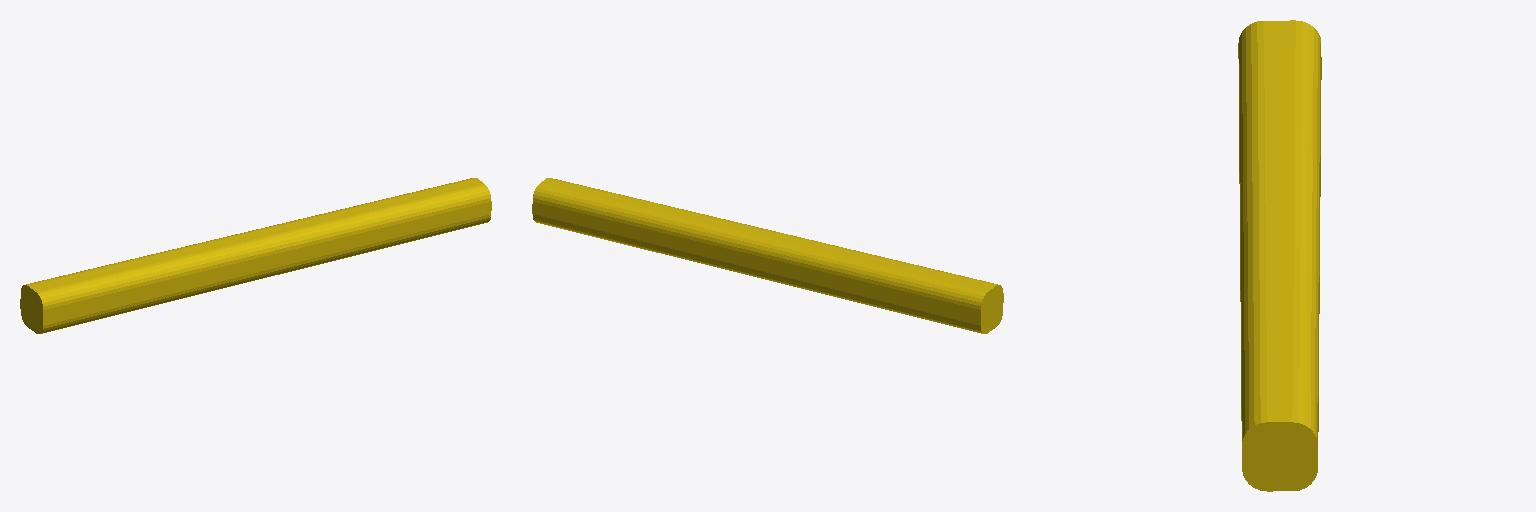
The robot description file, URDF, robot "cb_chopstick_s70d095":
<?xml version="1.0"?>
<!-- ContactBench chopstick. Generated by FoundationTouch tools/contactbench/make_contactbench_assets.py -->
<robot name="cb_chopstick_s70d095">
  <material name="c"><color rgba="0.85 0.75 0.10 1.0"/></material>
  <link name="object">
    <visual><origin xyz="0 0 0" rpy="0 0 0"/><geometry><mesh filename="chopstick.obj" scale="1 1 1"/></geometry><material name="c"/></visual>
    <collision><origin xyz="0 0 0" rpy="0 0 0"/><geometry><mesh filename="coll_00.obj" scale="1 1 1"/></geometry></collision>
    <inertial><mass value="1.722207e-03"/><origin xyz="0 0 0" rpy="0 0 0"/><inertia ixx="8.798916e-09" ixy="6.730815e-16" ixz="-2.206286e-16" iyy="7.059767e-07" iyz="2.210933e-15" izz="7.059767e-07"/></inertial>
  </link>
</robot>

--- Facts derived from the render (not from the file) ---
3 views of the same robot in one strip: view 1: azimuth 30°, elevation 25°; view 2: azimuth 150°, elevation 25°; view 3: azimuth 270°, elevation 25° (orthographic).
Model cb_chopstick_s70d095 with 1 links and 0 joints (none), rooted at object, posed all joints at 0.
Visible links, largest first — view 1: object; view 2: object; view 3: object.
Link boxes in pixels (x1,y1,x2,y2): object: [20, 178, 491, 333]; object: [532, 178, 1003, 333]; object: [1238, 20, 1321, 491].
Bounding box of the posed robot: 0.07 × 0.0062 × 0.0062 m (x, y, z).
1 mesh visuals loaded from 1 distinct referenced files (1 OBJ).
